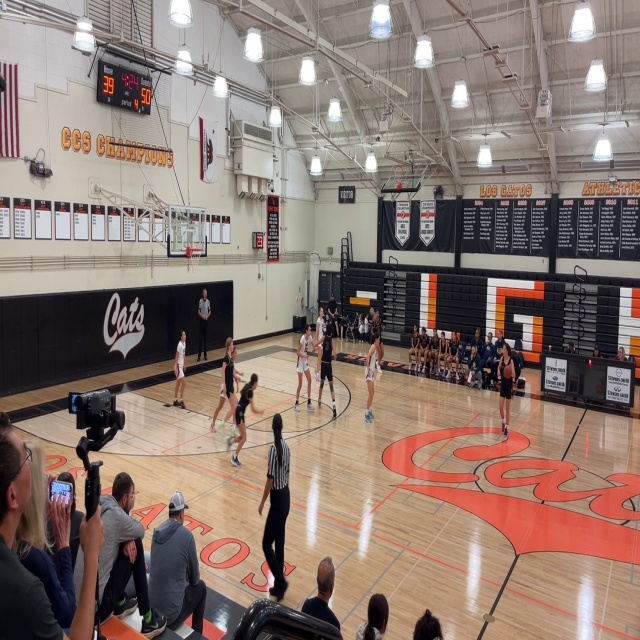Basketball: (503, 365, 513, 378)
